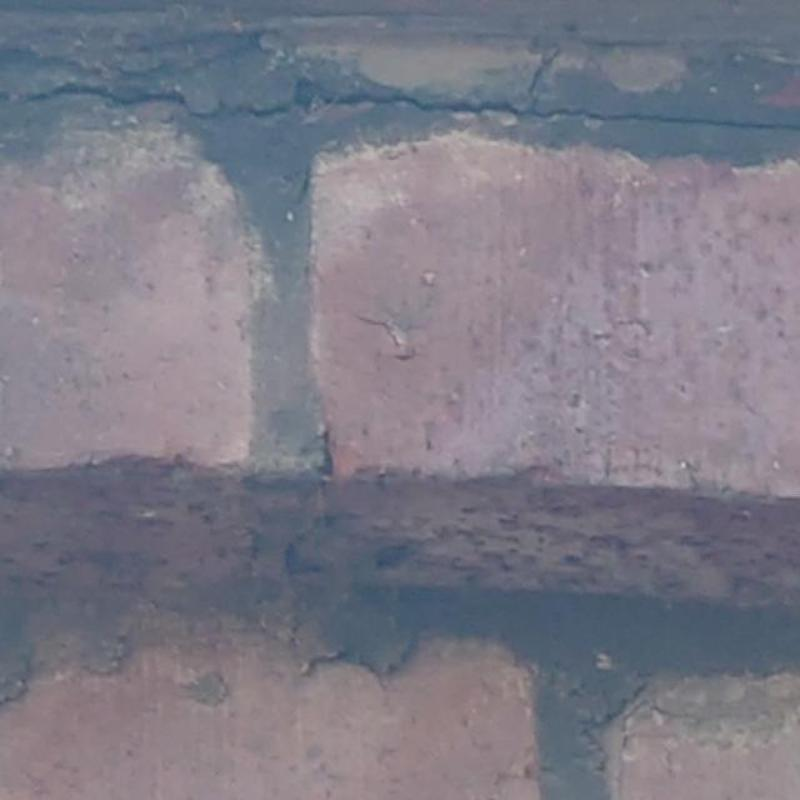pothole: (239, 46, 799, 132), (23, 84, 220, 115), (621, 700, 672, 750), (354, 312, 401, 349)
